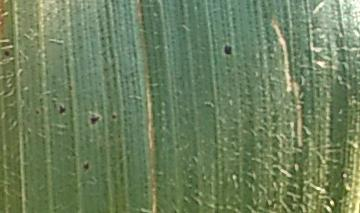tarspot: (52, 100, 71, 118), (86, 109, 103, 127), (222, 41, 234, 59), (107, 109, 121, 122), (80, 158, 91, 173), (1, 47, 12, 61)
